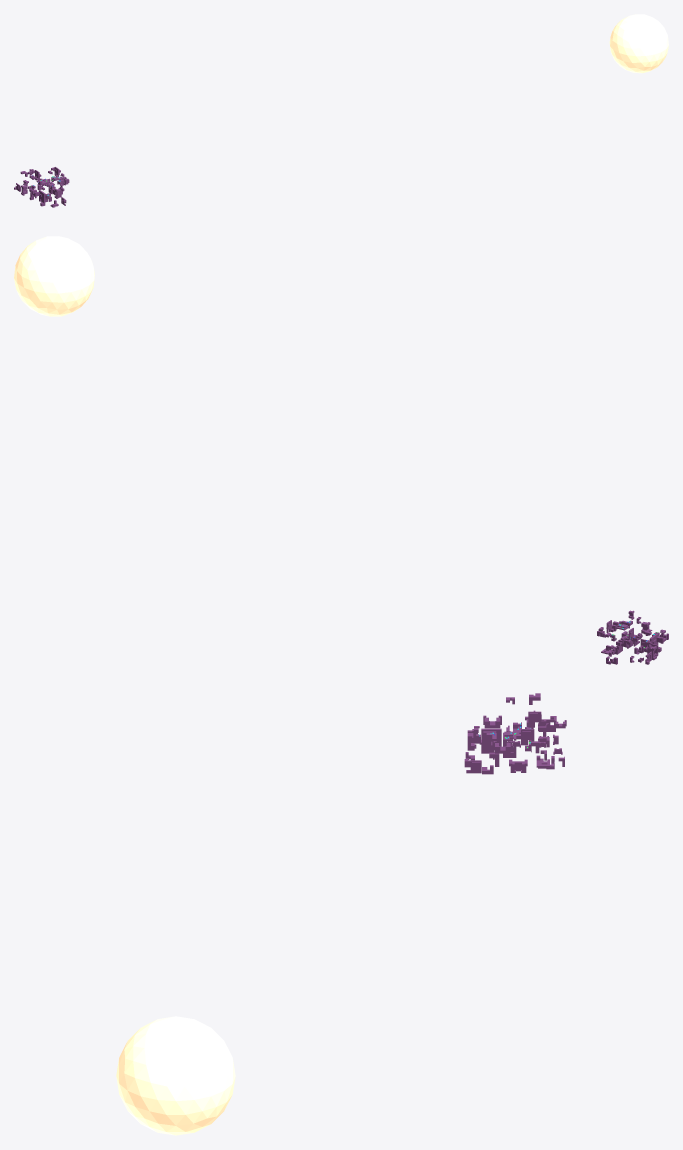
The model's file is background-geometry-world.glb.
3 views of the same model, one above another, from view 1: azimuth 30°, elevation 25°; view 2: azimuth 150°, elevation 25°; view 3: azimuth 270°, elevation 25° (orthographic). The views are drawn at different scales.
Visible parts, largest first — view 1: Icosphere.001; view 2: Icosphere.001; view 3: Icosphere.001.
Part boxes in pixels (left/top/right/bottom): Icosphere.001: left=609, top=14, right=668, bottom=73; Icosphere.001: left=14, top=236, right=94, bottom=316; Icosphere.001: left=116, top=1016, right=235, bottom=1135.
Size of the model in its own units: 2764 by 580 by 968.
